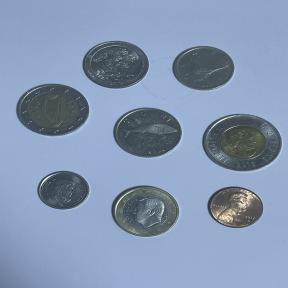1 Euro-B: (108, 181, 190, 244)
2 Euro-B: (14, 83, 90, 140)
Canada-10cent-B: (34, 166, 94, 214)
Canada-2Dollar-B: (198, 110, 288, 175)
Croatia-2Kune-B: (111, 104, 187, 162)
US-1cent-B: (200, 182, 268, 233)
US-25cent-B: (80, 37, 150, 90)
